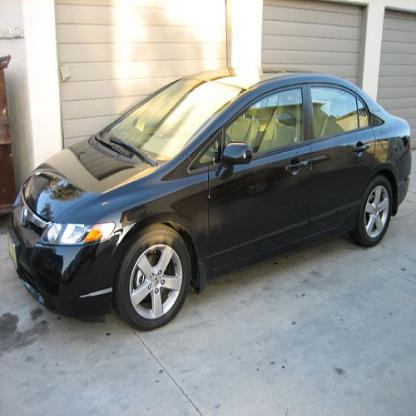car: (5, 62, 415, 333)
